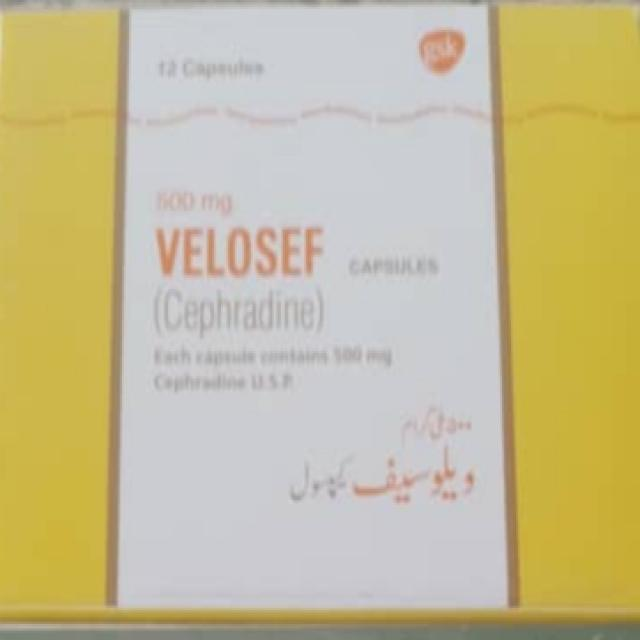drug-name: (148, 220, 324, 278)
